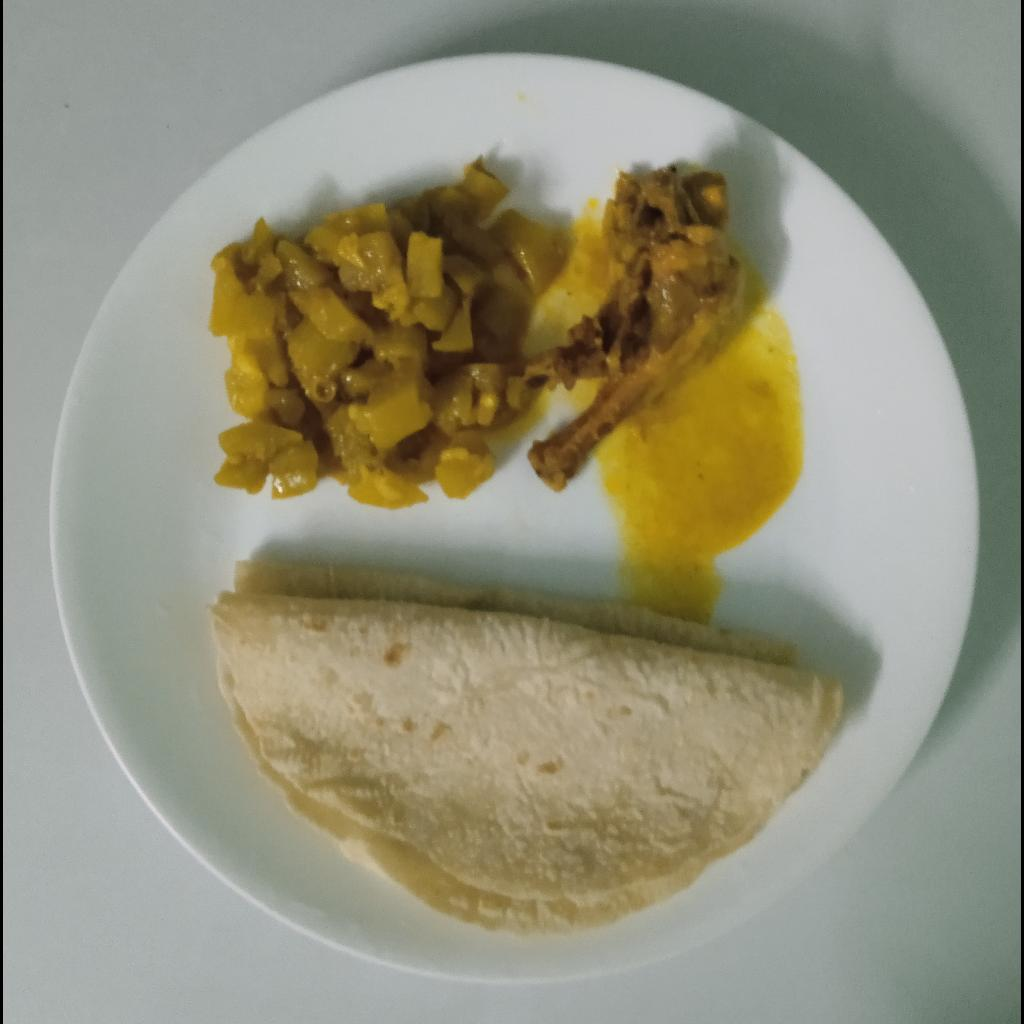chicken: (524, 162, 749, 491)
potol: (203, 158, 576, 512)
ruti: (206, 552, 847, 940)
